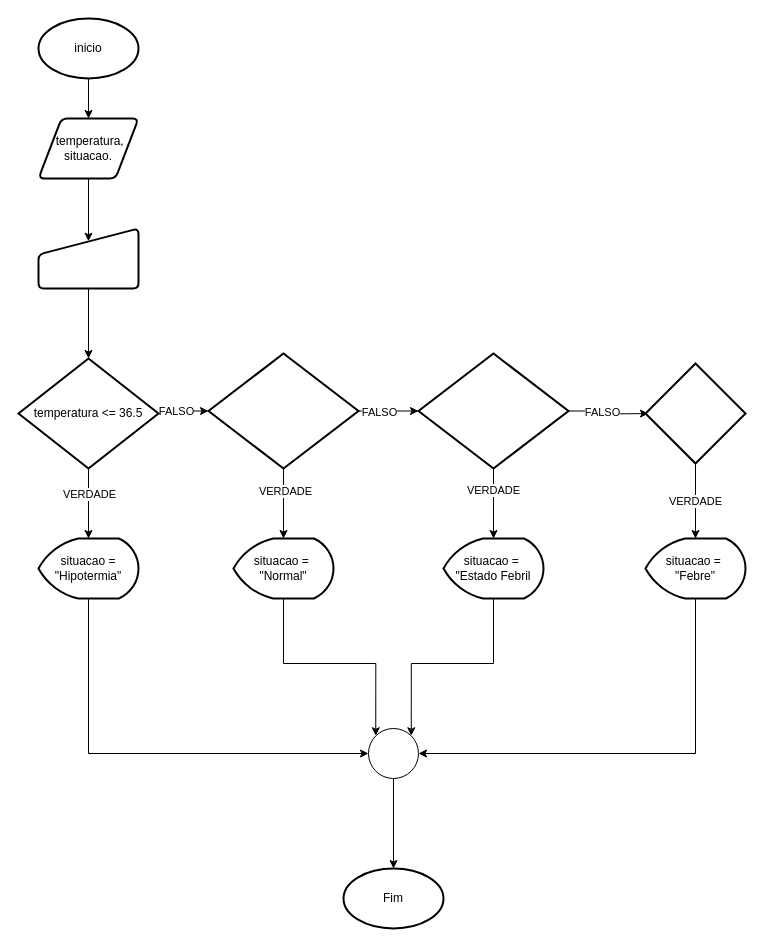
The diagram is 763 pixels wide and 946 high, and some of its shapes have lost their labels. Here are the shapes that lost their labels. From the top down, the box of each, then its label:
(37, 227, 139, 289): temperatura
(207, 352, 359, 469): temperatura >=36.6 e temperatura <= 37
(417, 352, 569, 469): temperatura > 37 e temperatura <= 38
(644, 362, 746, 464): temperatura >38
